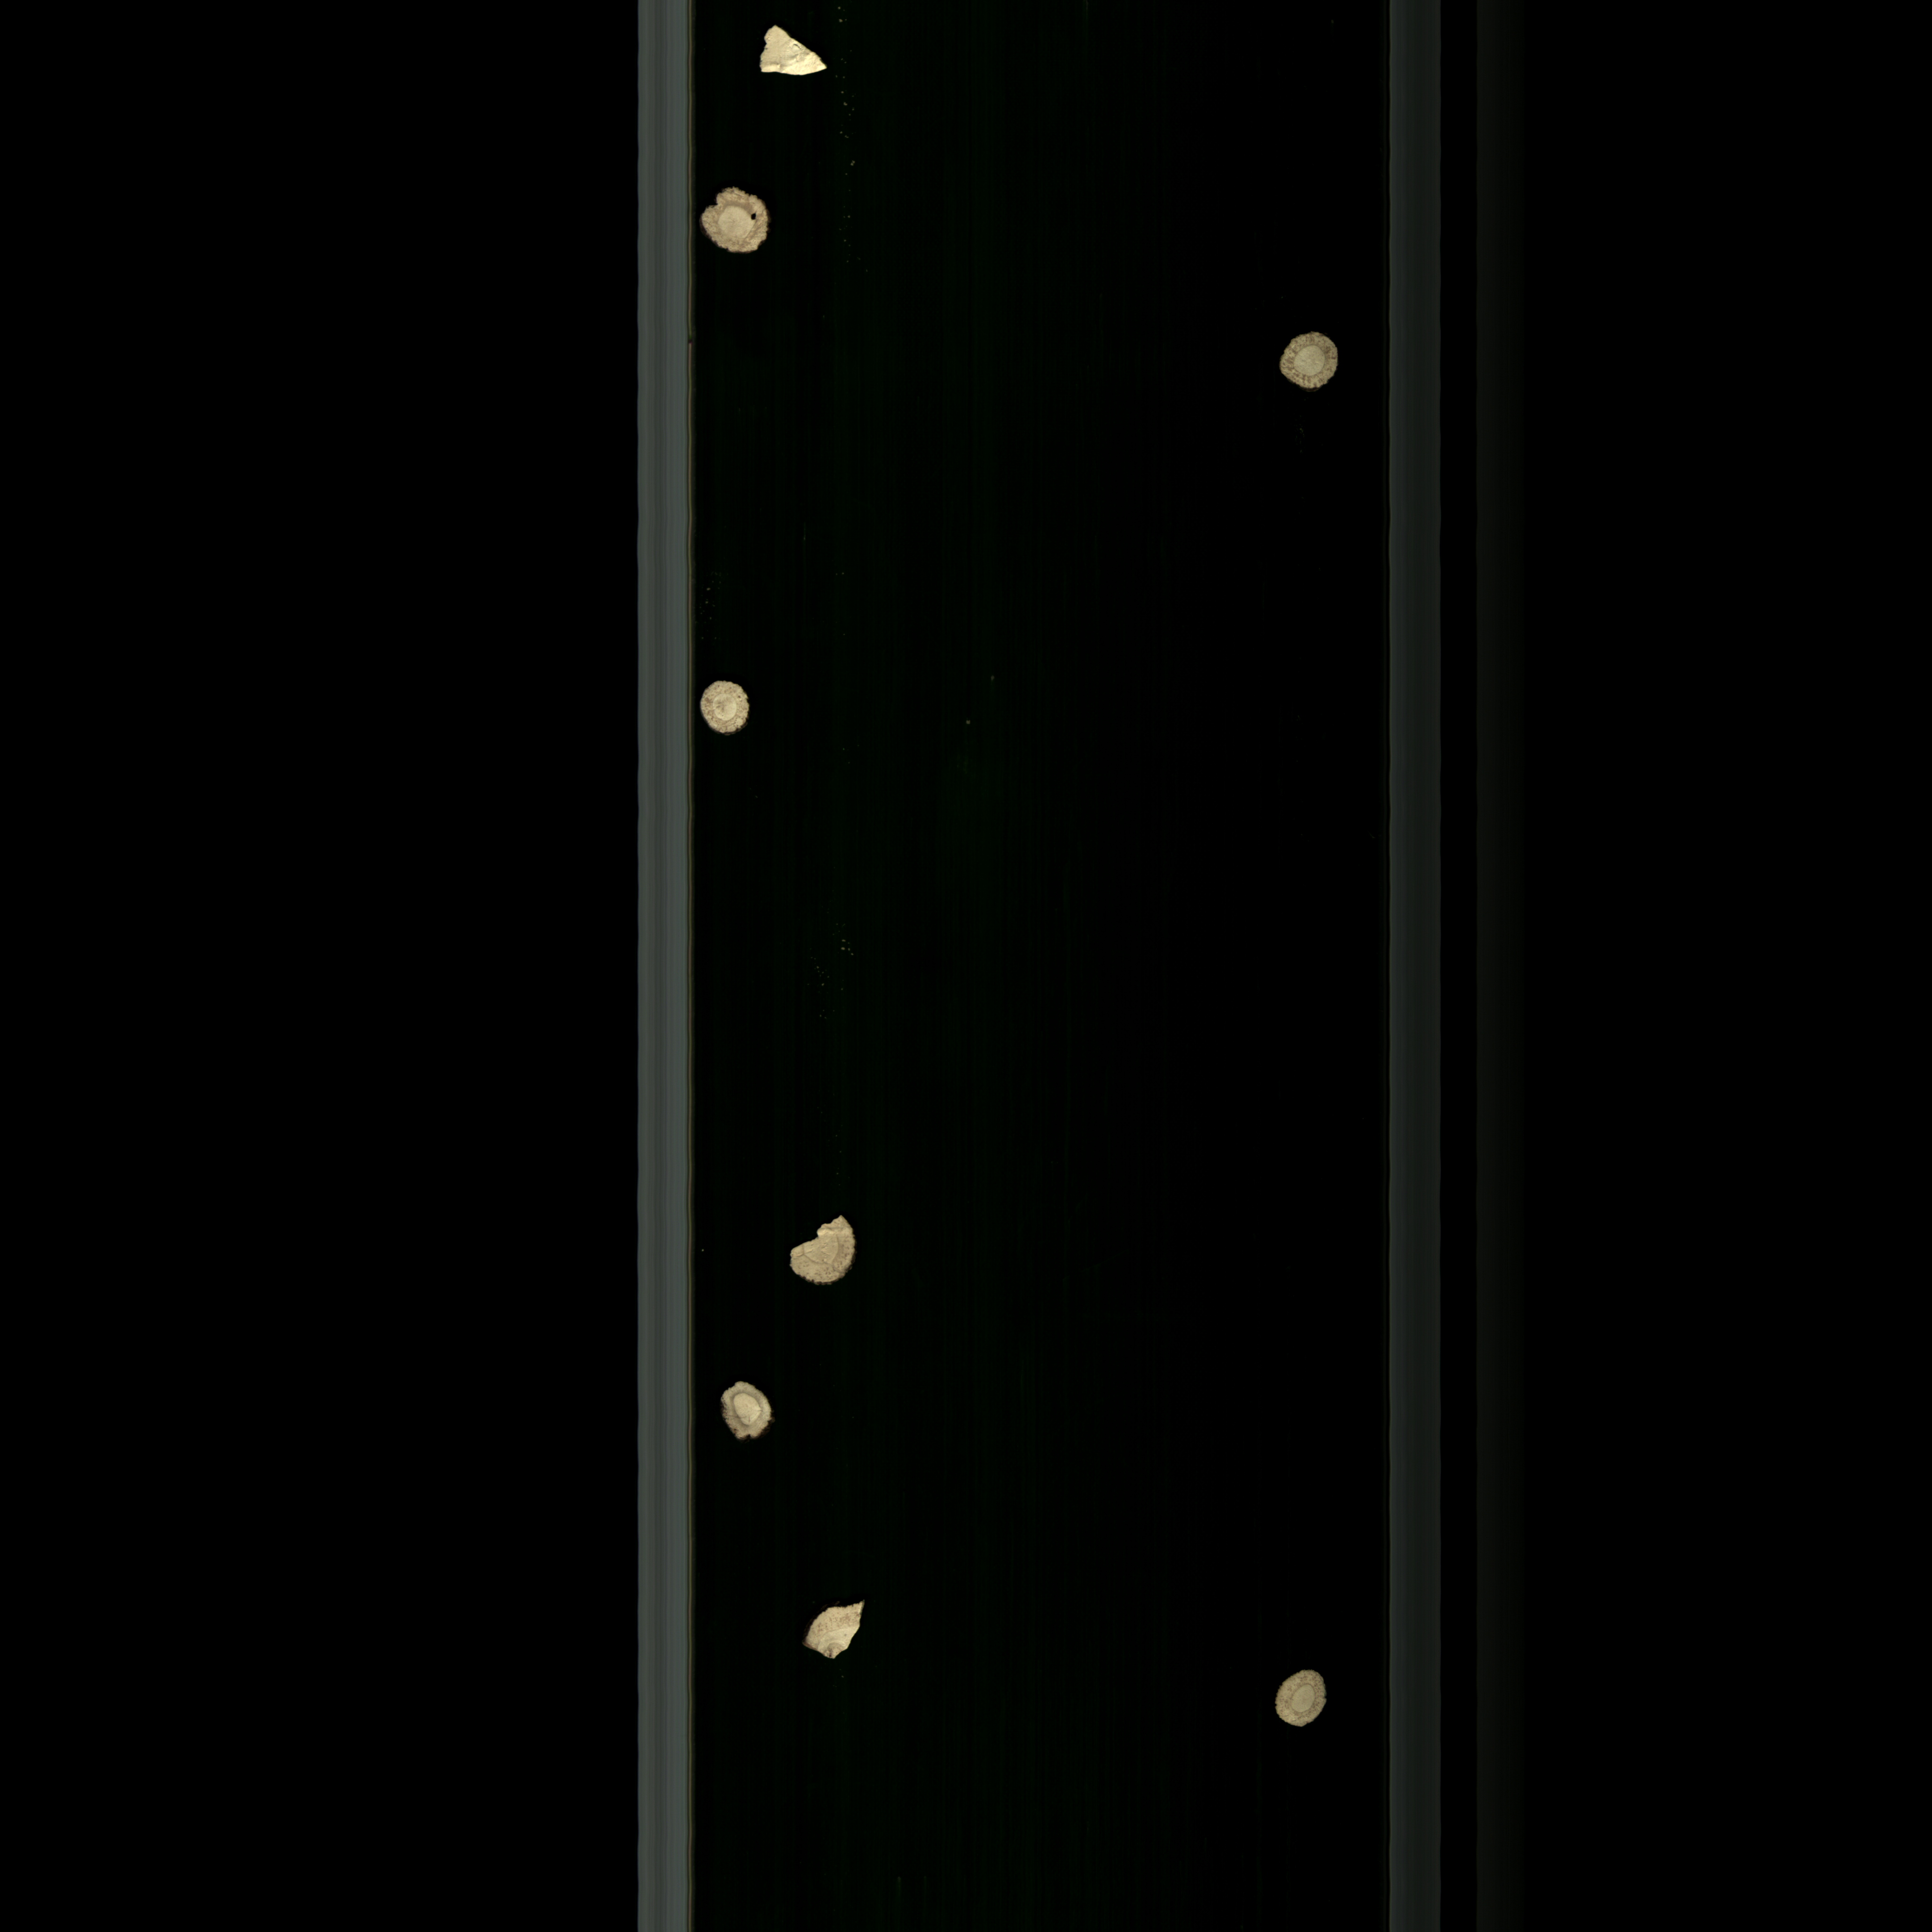debris: (775, 1207, 878, 1297), (787, 1601, 878, 1661)
dreg: (752, 28, 840, 87)
moldy: (699, 180, 778, 262), (704, 1371, 784, 1453)
